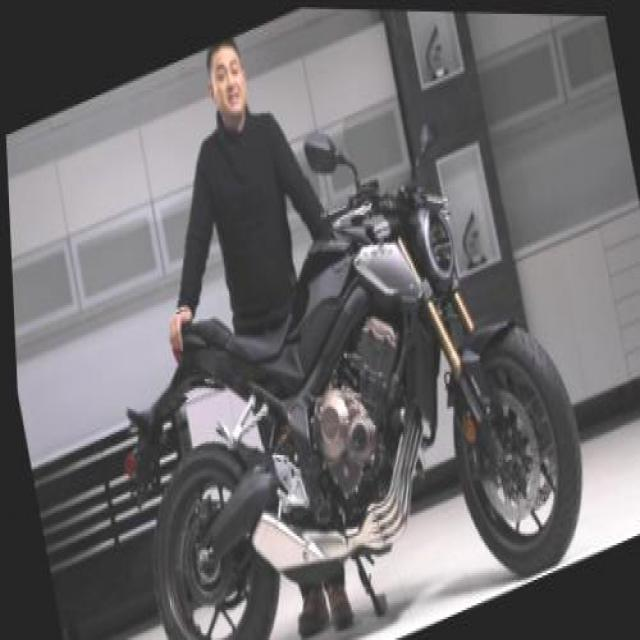CB650R: (94, 108, 600, 638)
